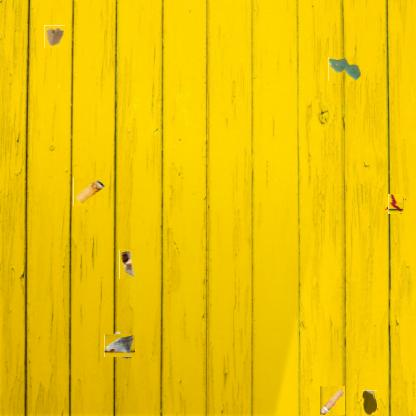dirty: (73, 178, 106, 206), (319, 386, 345, 416), (106, 332, 133, 359), (119, 249, 136, 279), (44, 25, 66, 48), (387, 196, 404, 213)
liquid: (328, 57, 361, 81), (362, 390, 378, 415)
